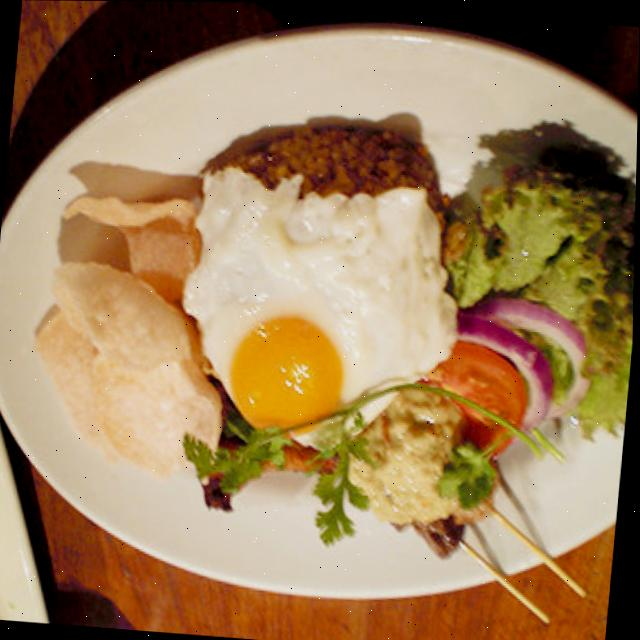鸡蛋料理: (177, 141, 451, 462)
